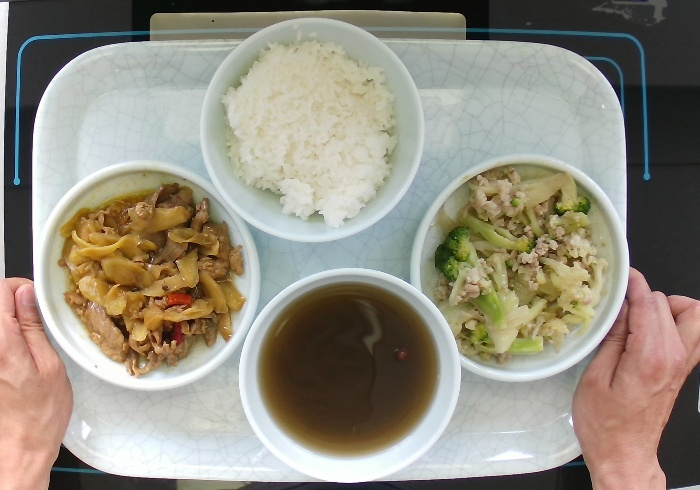JYsf-Fan_Wan: (197, 15, 427, 245), (236, 265, 463, 485)
JYsf-Xiao_Yuan_Pan: (32, 157, 263, 394), (407, 151, 632, 385)
